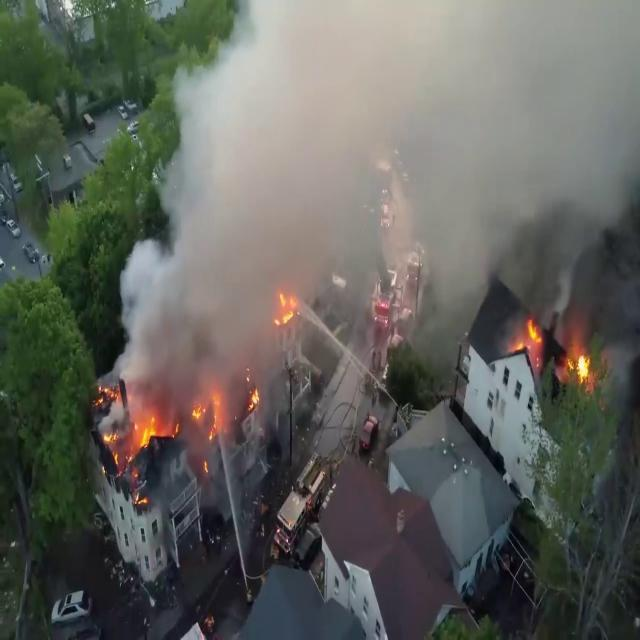Fire: (124, 389, 226, 467), (190, 383, 227, 453), (562, 336, 594, 391), (519, 308, 545, 362), (273, 282, 301, 332)
Smoke: (112, 0, 640, 430)
